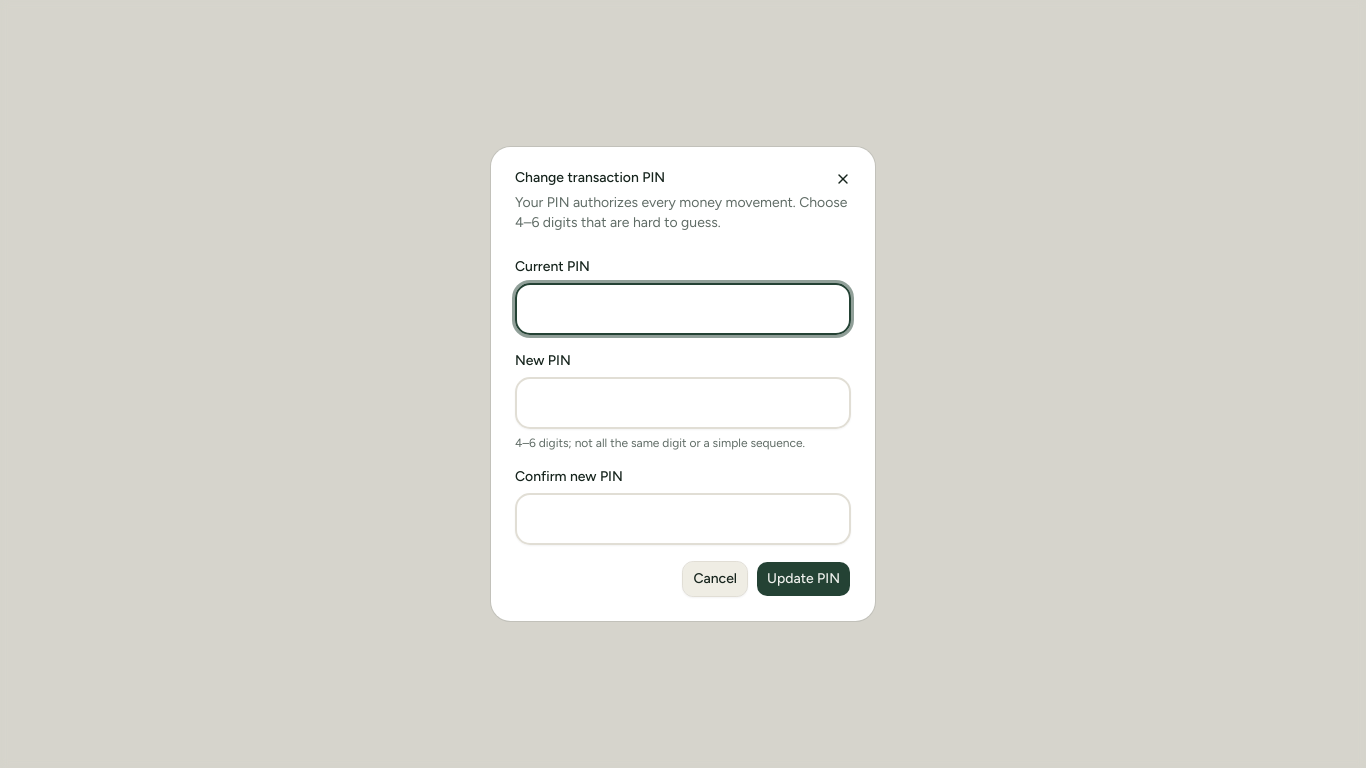
Test: ChangePinDialog › rejects a weak new PIN client-side
Type "1234" into the password field labelled "Current PIN".
click(683, 309); type("1234")  # box x1=515 y1=283 x2=851 y2=335
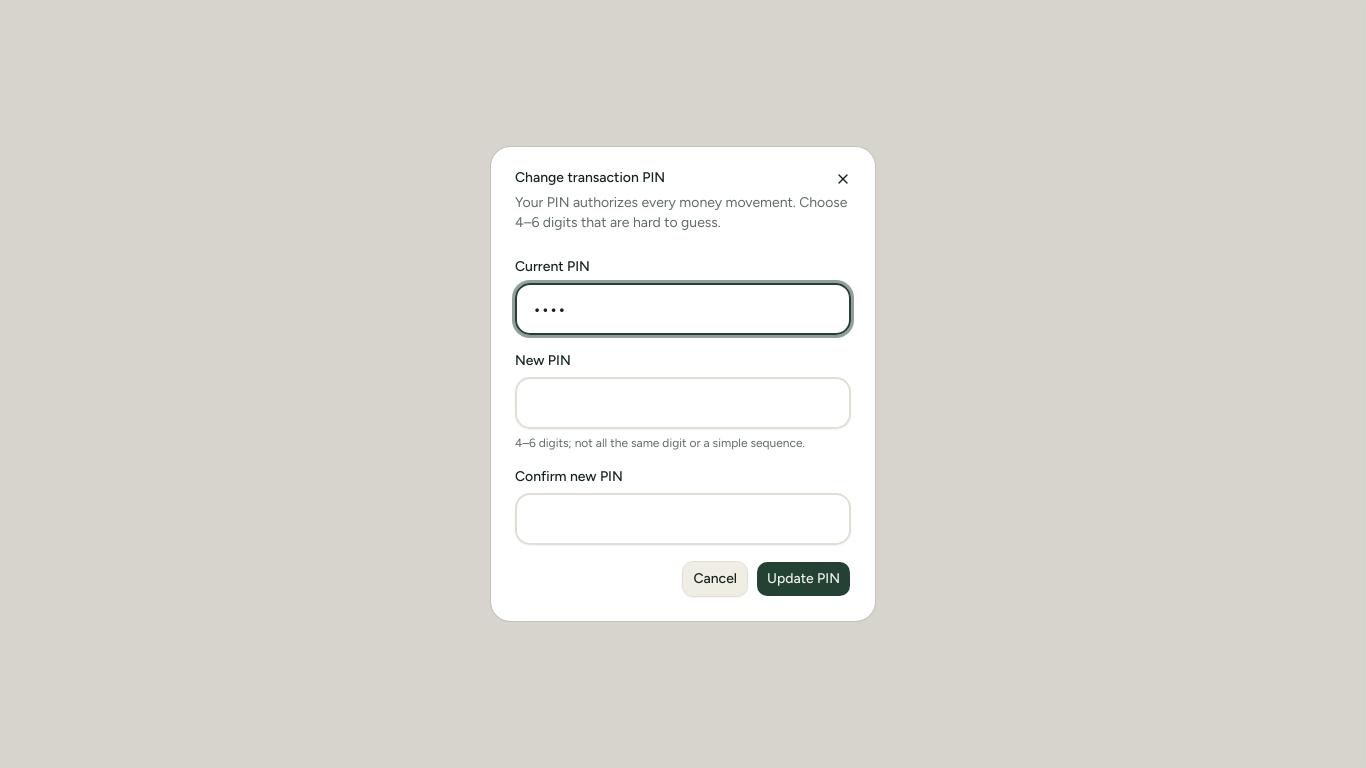
Type "1111" into the password field labelled "New PIN".
click(683, 403); type("1111")  # box x1=515 y1=377 x2=851 y2=429
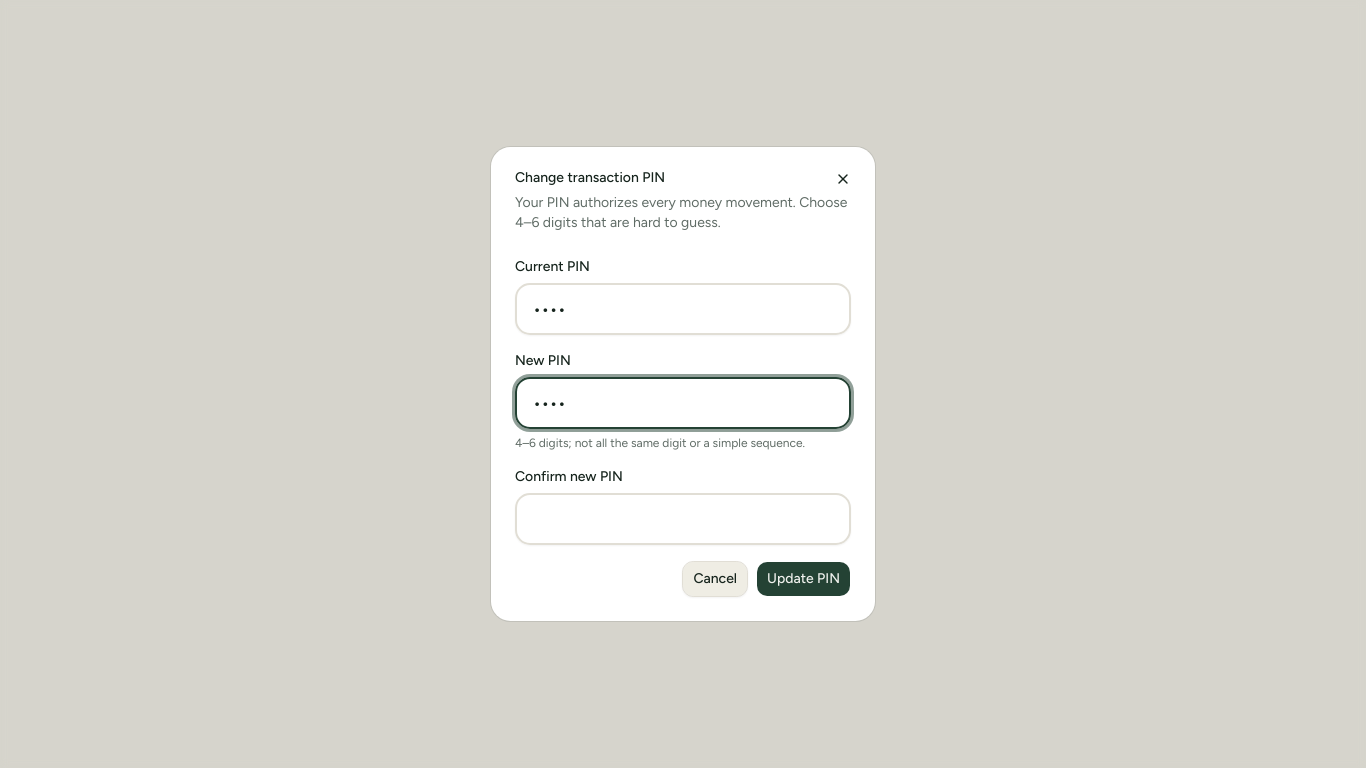
Type "1111" into the password field labelled "Confirm new PIN".
click(683, 519); type("1111")  # box x1=515 y1=493 x2=851 y2=545
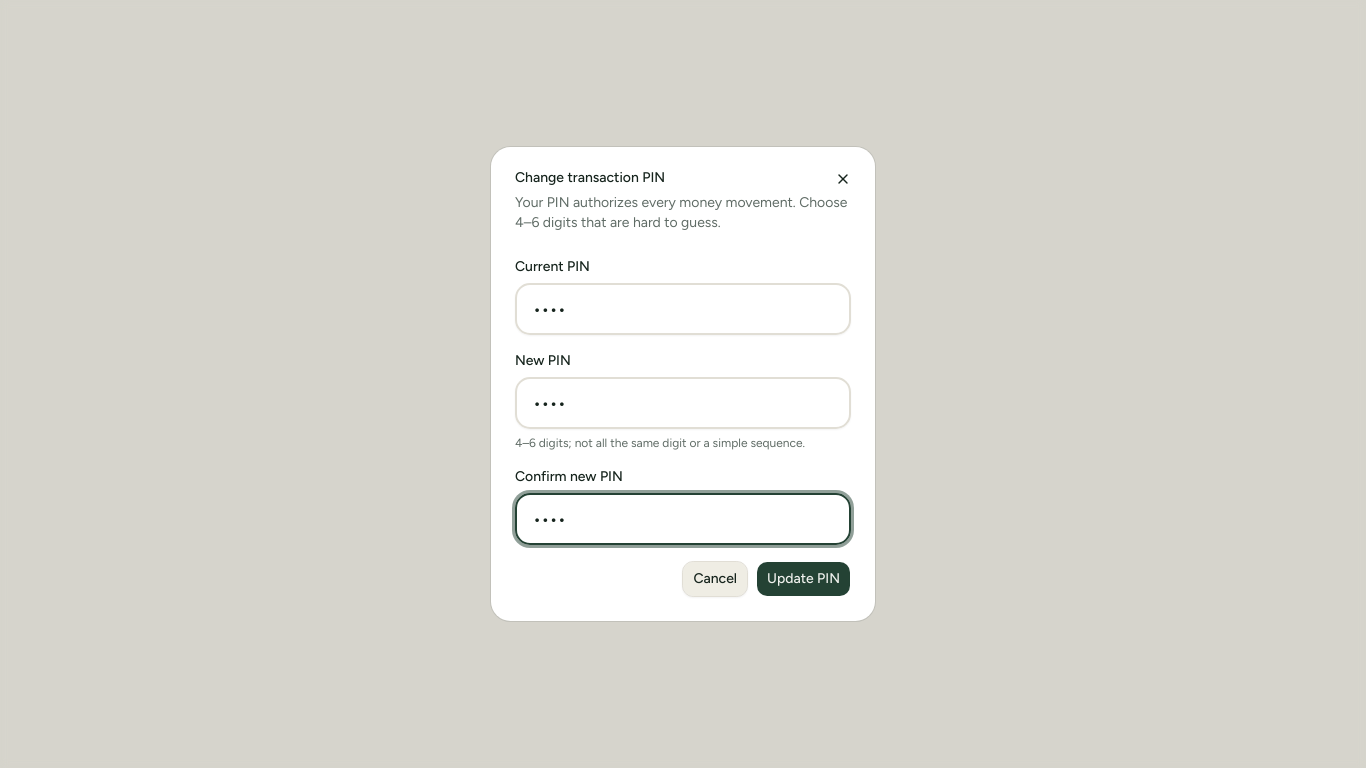
Click the button "Update PIN".
click(804, 579)  # box x1=756 y1=561 x2=851 y2=597
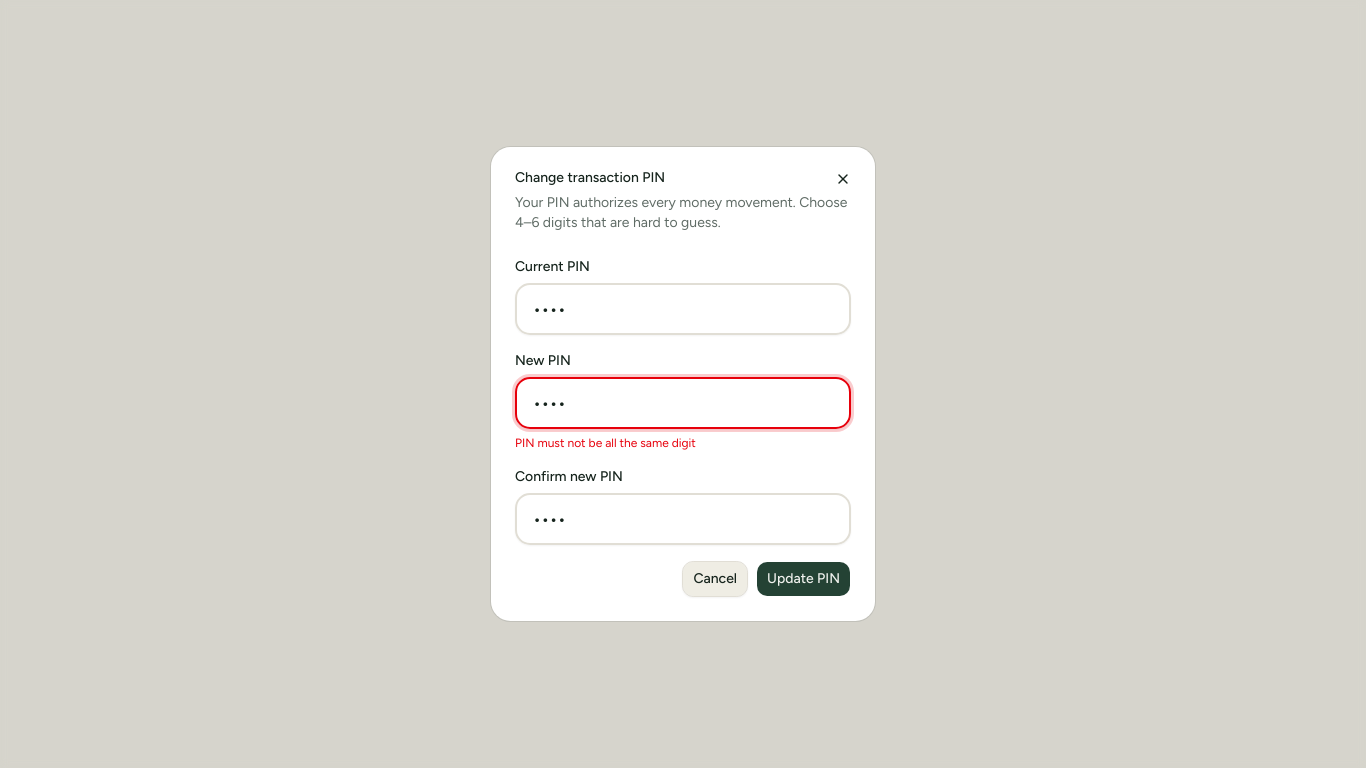
Result: the text "PIN must not be all the same digit" is shown at x1=515 y1=436 x2=696 y2=450
